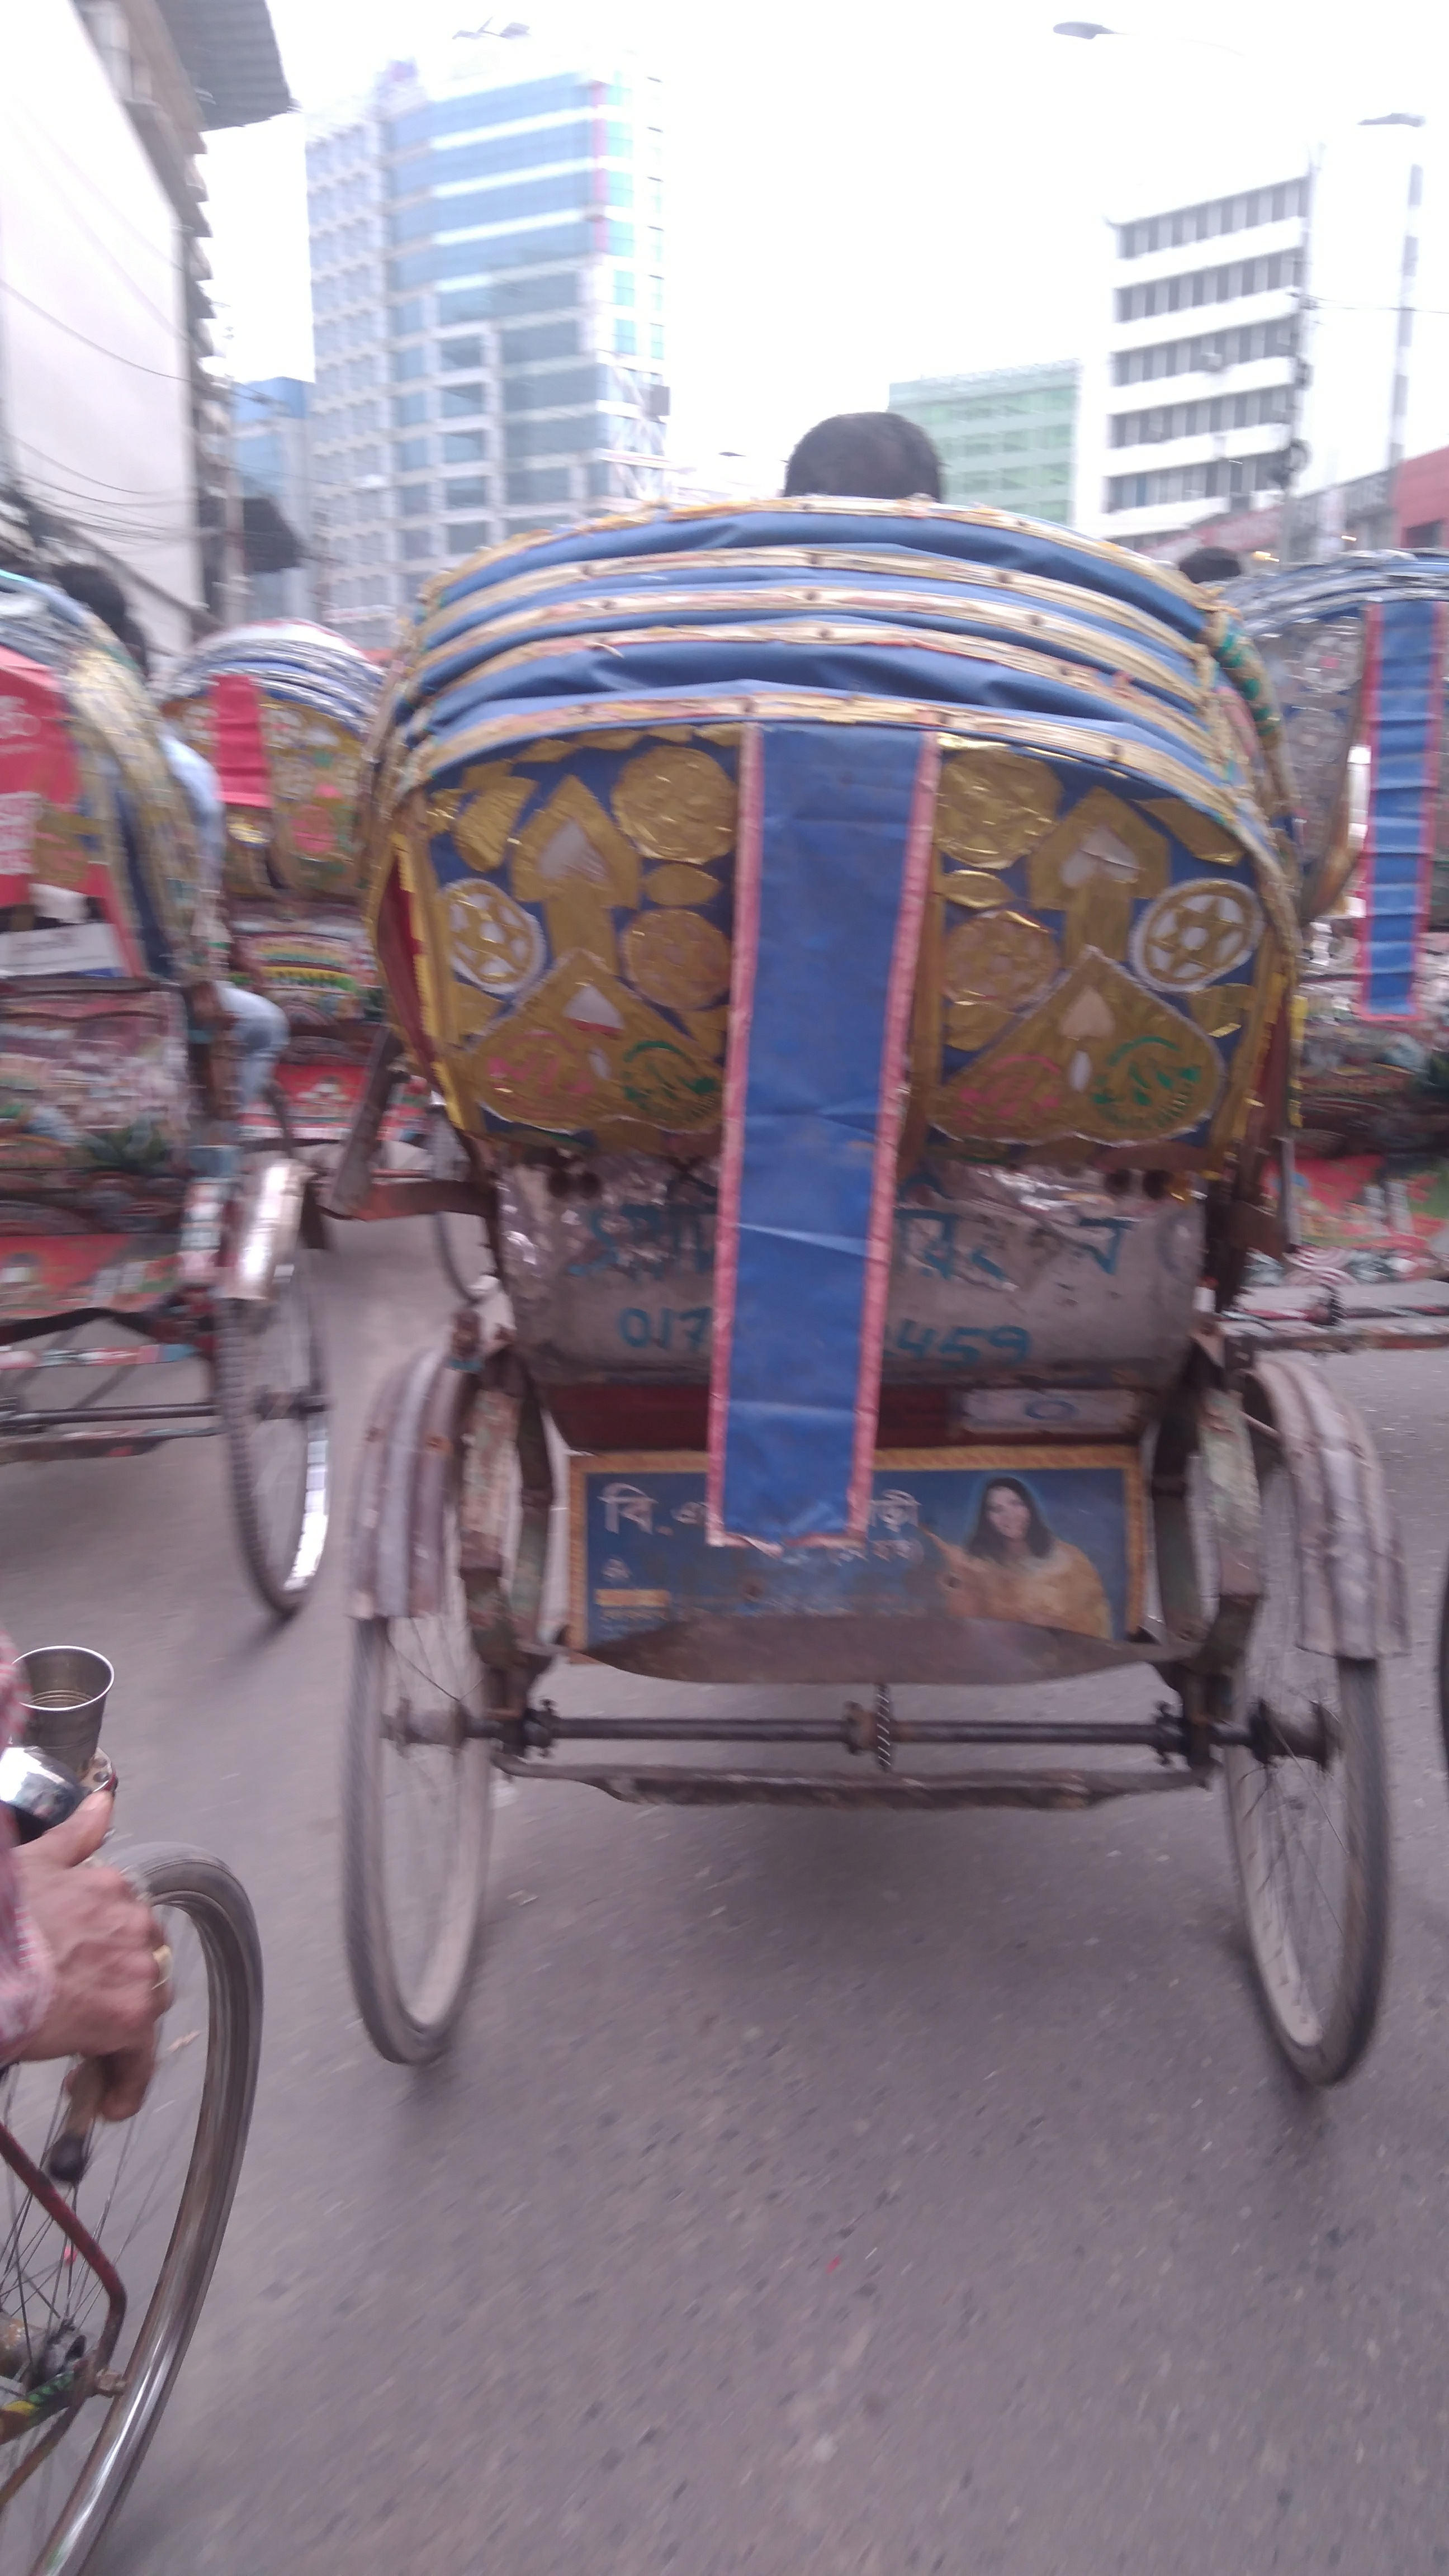Rickshaw: (343, 402, 1410, 2102), (27, 545, 336, 1553), (1141, 432, 1438, 1304), (140, 570, 471, 1116)
